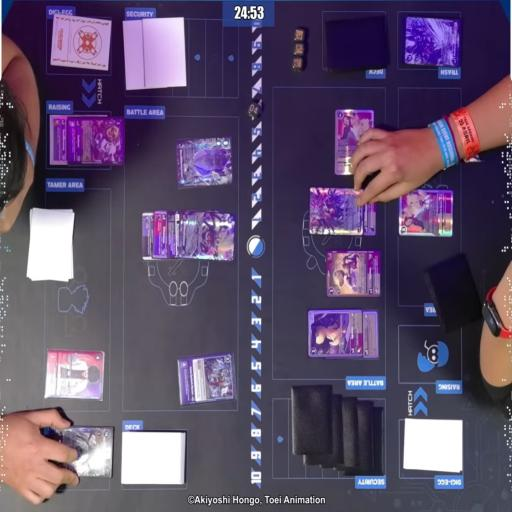card: (42, 348, 108, 402), (176, 353, 236, 406), (50, 426, 112, 476), (176, 214, 238, 263), (176, 134, 229, 189), (308, 308, 366, 357), (404, 20, 462, 69), (397, 190, 452, 240), (68, 118, 125, 166), (326, 248, 382, 296), (334, 116, 376, 176), (307, 190, 364, 234), (47, 114, 73, 168), (139, 213, 156, 261), (163, 209, 179, 259), (364, 310, 379, 360), (363, 188, 377, 241), (152, 207, 164, 258)
